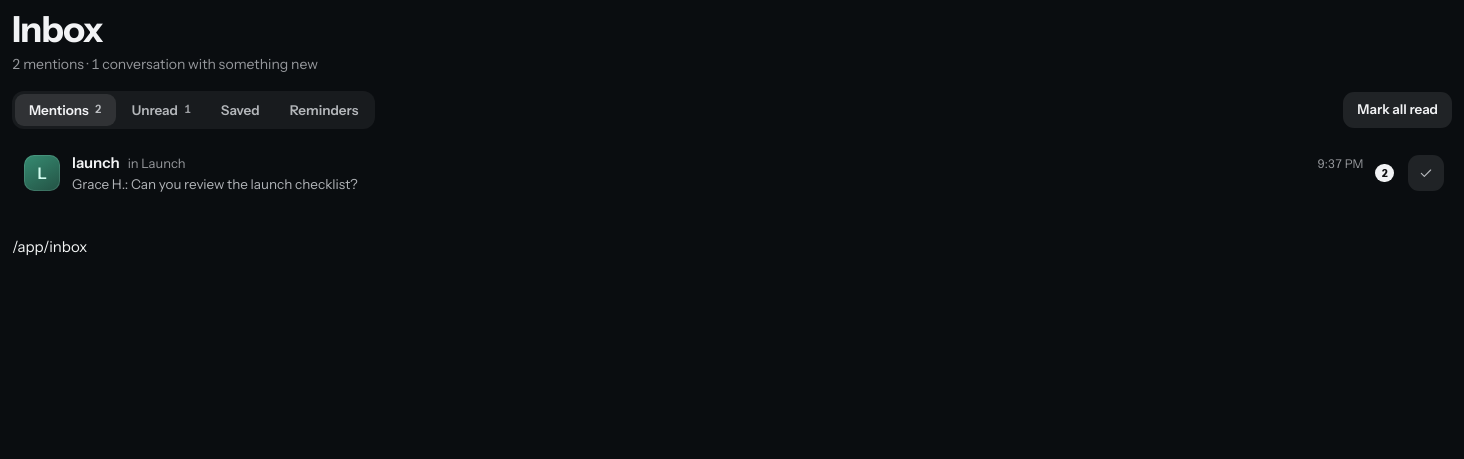
InboxPage › removes a saved message and says the list is empty
What coordinates should you click on to do the following:
click the tab "Saved"
I would click on:
 (240, 110)
Its box is [207,94,274,126].
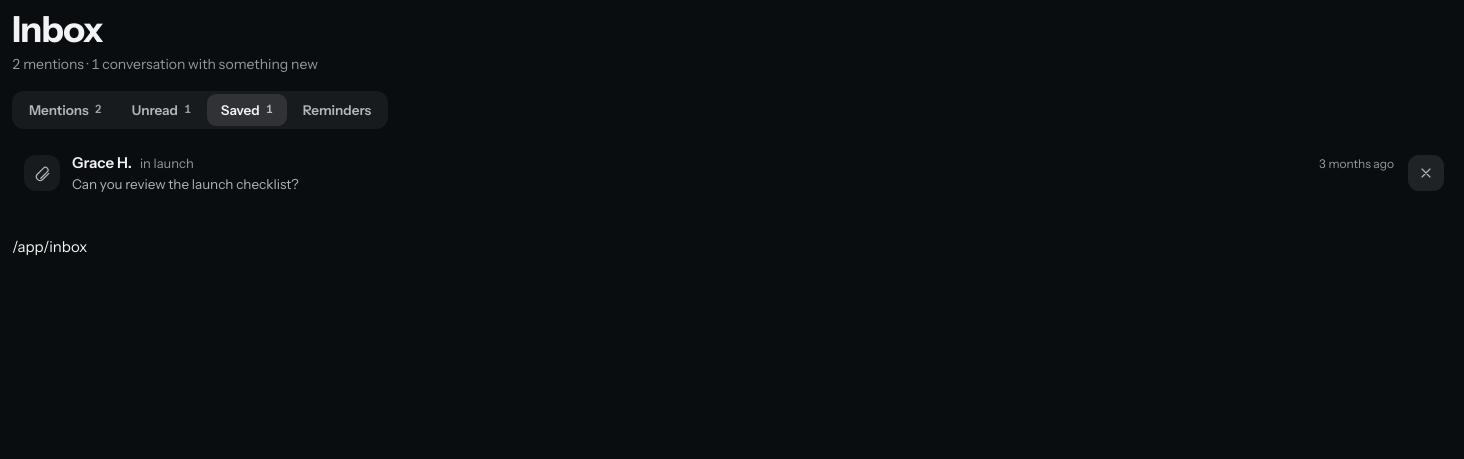
What coordinates should you click on to do the following:
click the button named "Remove message from Grace H."
I would click on:
 (1426, 173)
Its box is [1408,155,1444,191].
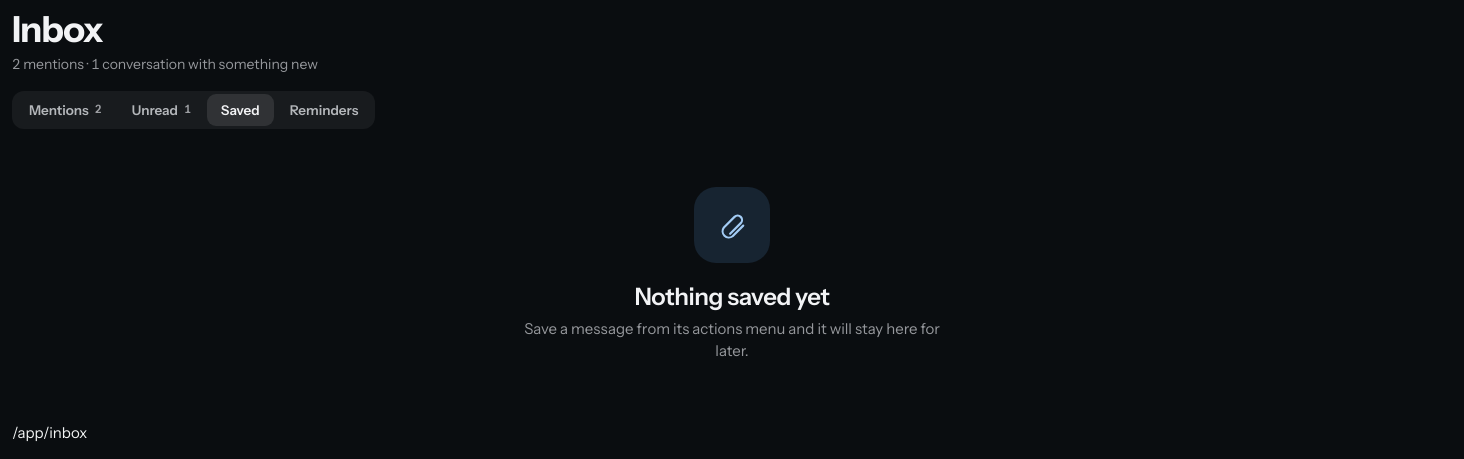
Expected: the heading "Nothing saved yet" is shown, [634,283,830,312]
